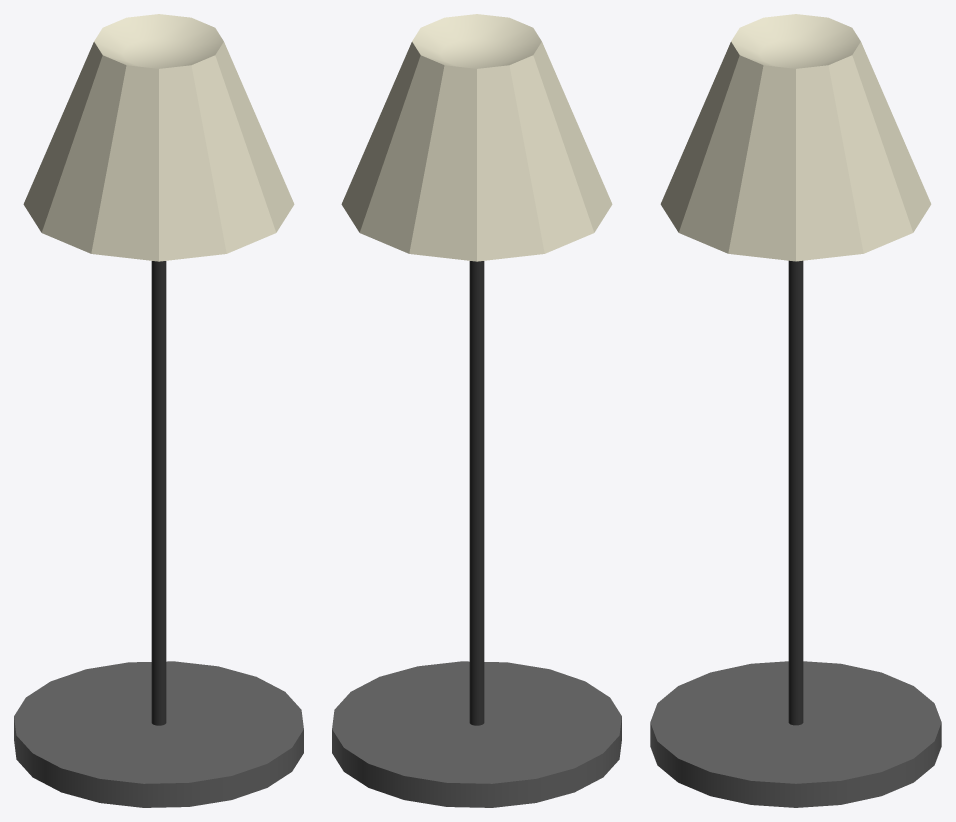
The model's file is LampMK2Export.fbx.
The picture shows the model from 3 angles, left to right: view 1: azimuth 30°, elevation 25°; view 2: azimuth 150°, elevation 25°; view 3: azimuth 270°, elevation 25°; orthographic projection.
Visible parts, largest first — view 1: polySurface5; view 2: polySurface5; view 3: polySurface5.
Boxes of the visible parts, left/top/right/bottom form: polySurface5: left=14, top=14, right=303, bottom=807; polySurface5: left=332, top=14, right=621, bottom=807; polySurface5: left=650, top=14, right=941, bottom=807.
Bounding box in the file's own units: 0.7659 × 2.04 × 0.7659.
